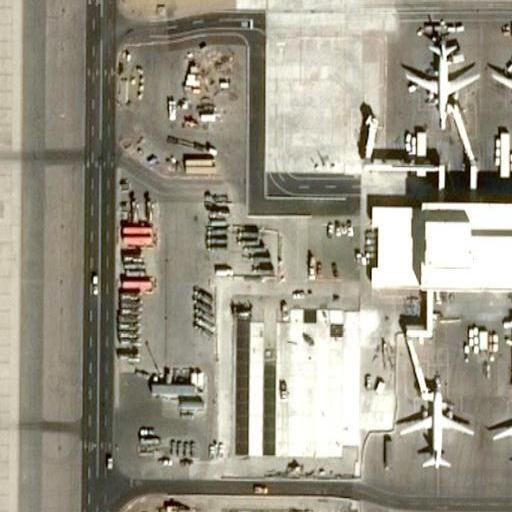Aircraft: (399, 31, 481, 125), (399, 383, 478, 465), (484, 381, 512, 475), (489, 30, 512, 127)
